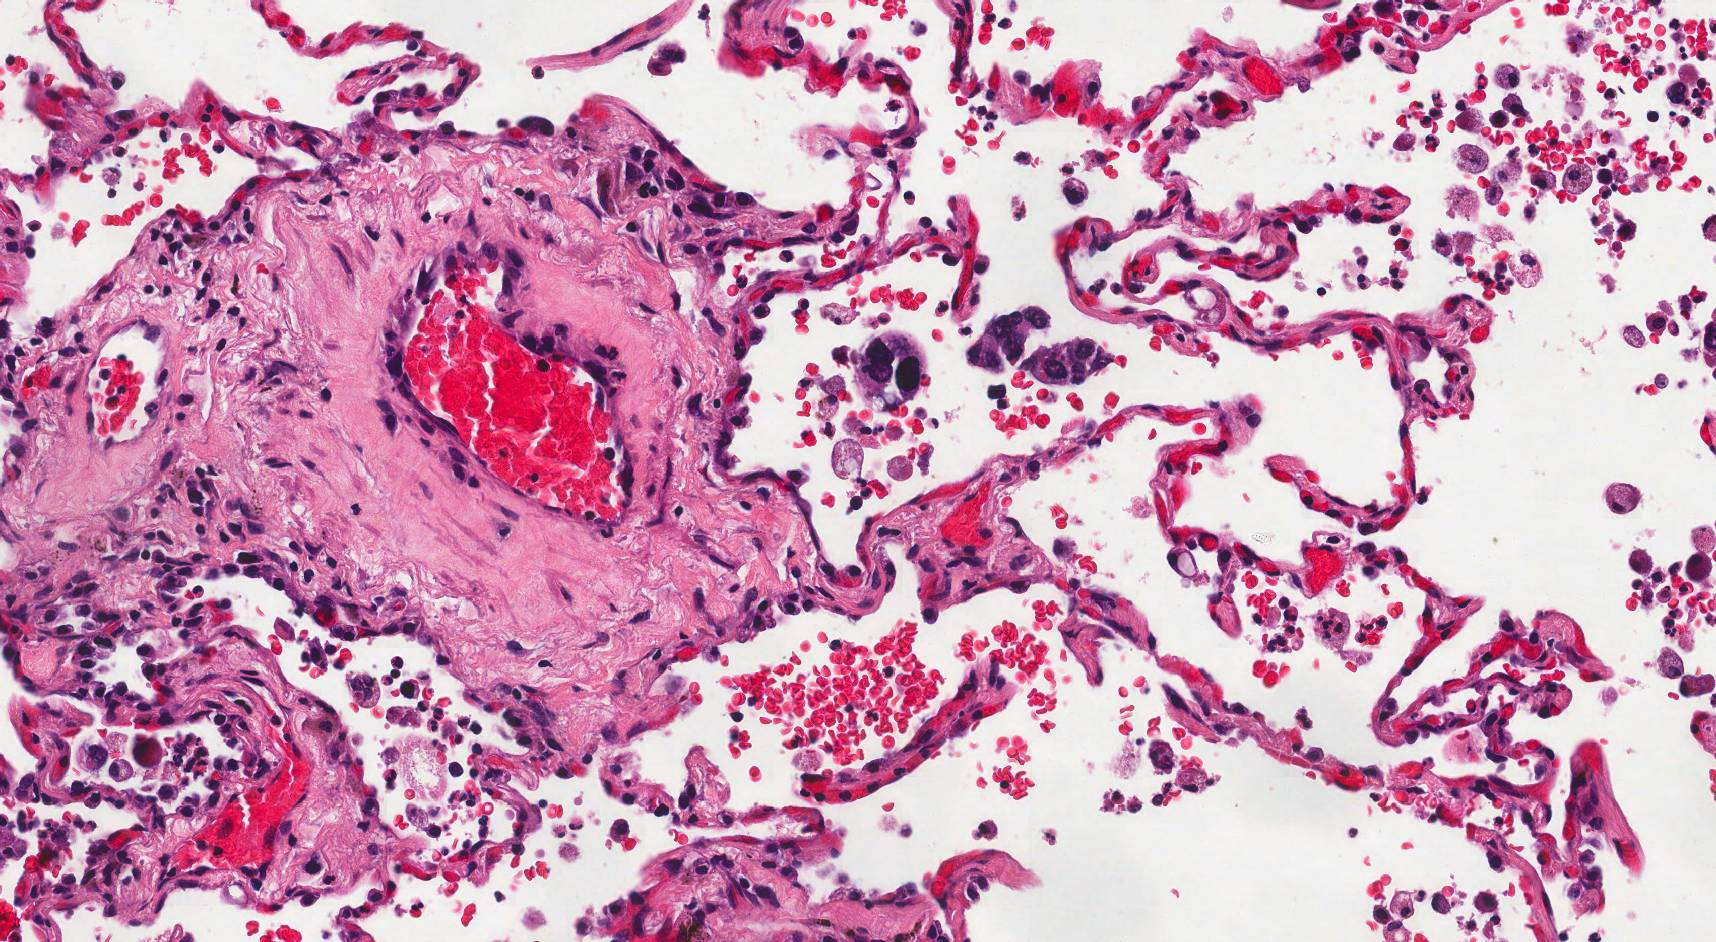stas: (852, 331, 931, 409), (967, 306, 1052, 372), (1017, 337, 1117, 387)
